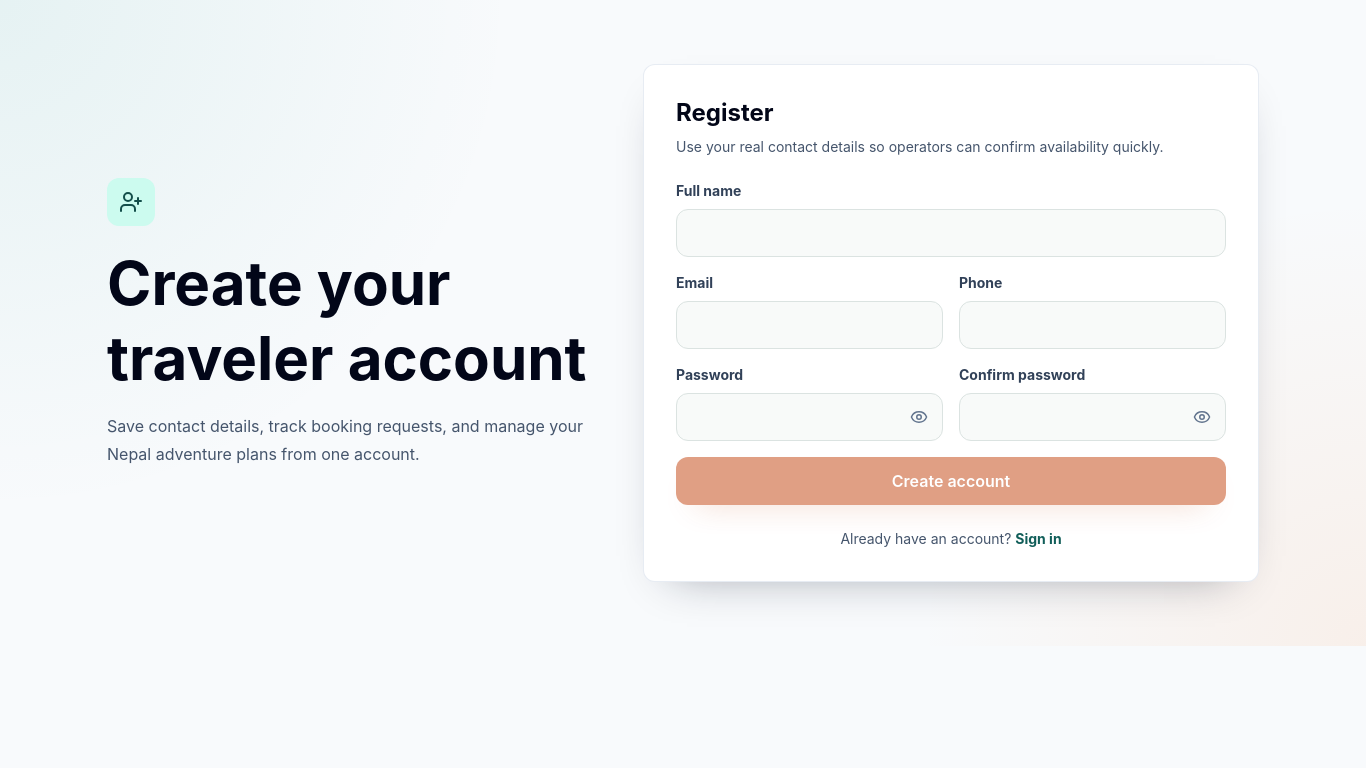
Test: authentication and protected routes › validates registration and blocks duplicate email addresses
In the field labelled "Full name": (951, 233) [676,209,1226,257], type "New Traveler"
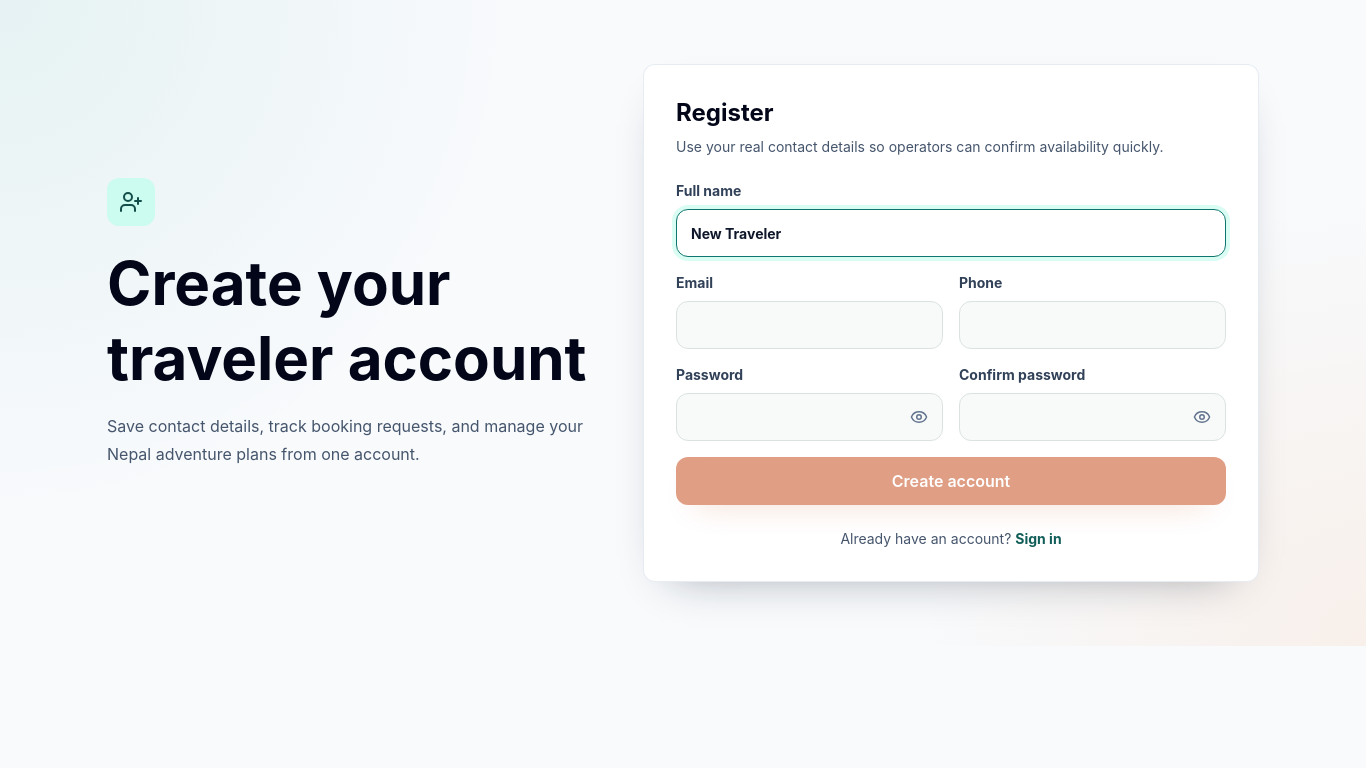
In the field labelled "Email": (810, 325) [676,301,943,349], type "user@example.com"
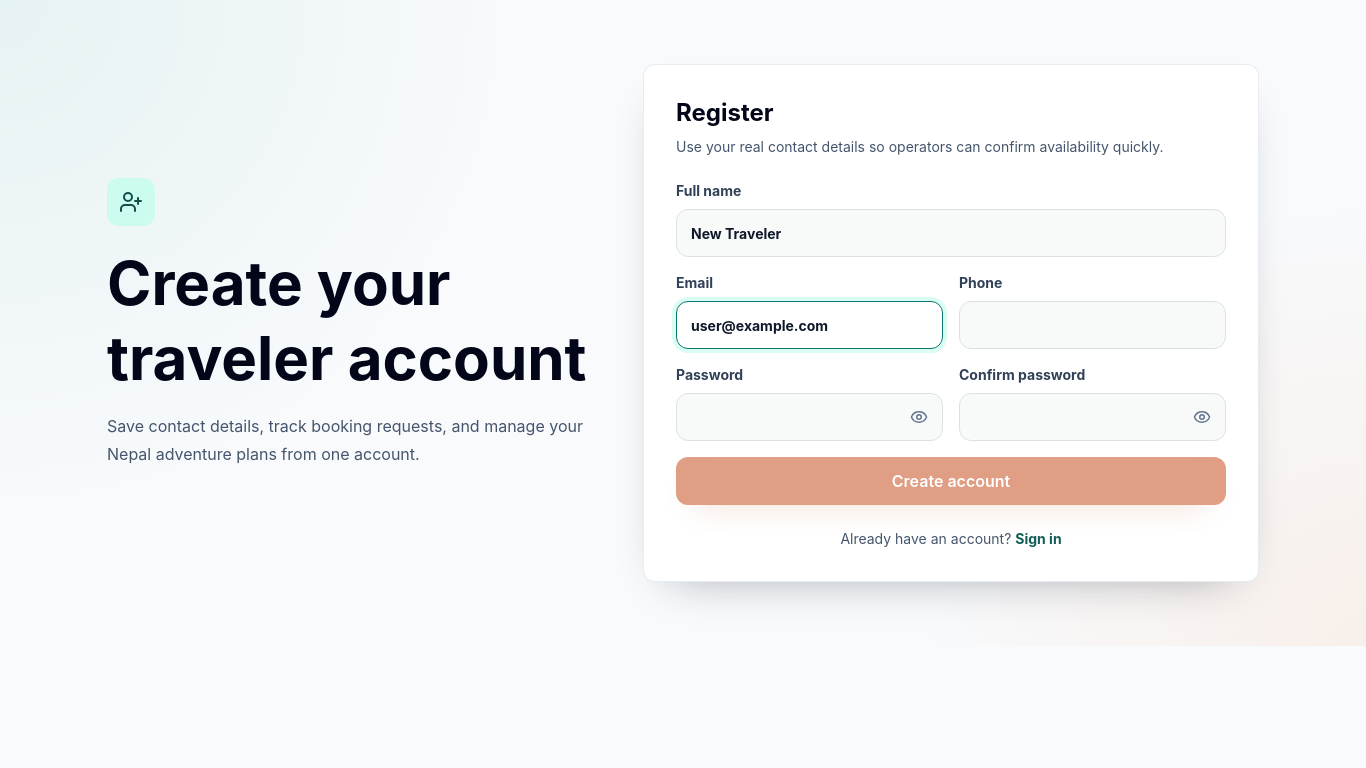
In the field labelled "Phone": (1092, 325) [959,301,1226,349], type "9800000000"
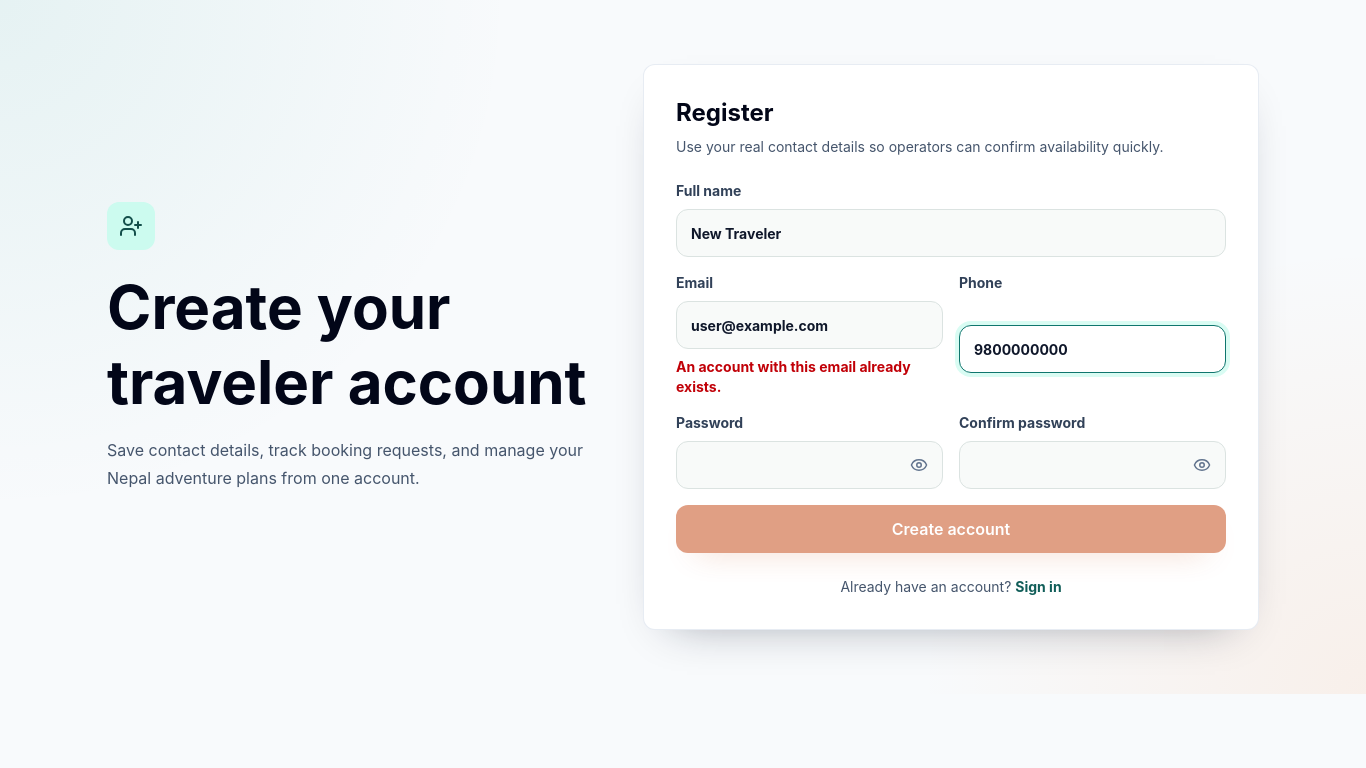
In the password field labelled "Password": (810, 465) [676,441,943,489], type "Password1"
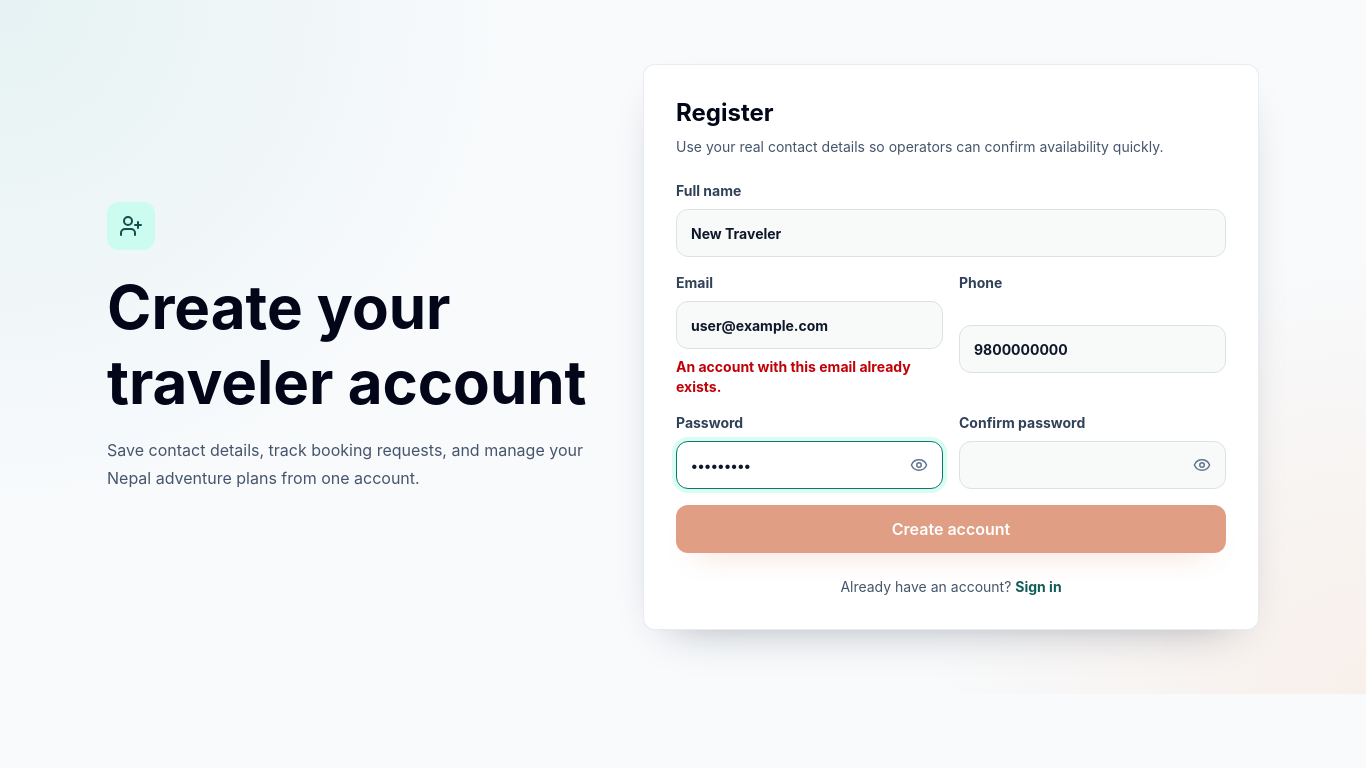
In the password field labelled "Confirm password": (1092, 465) [959,441,1226,489], type "Password2"
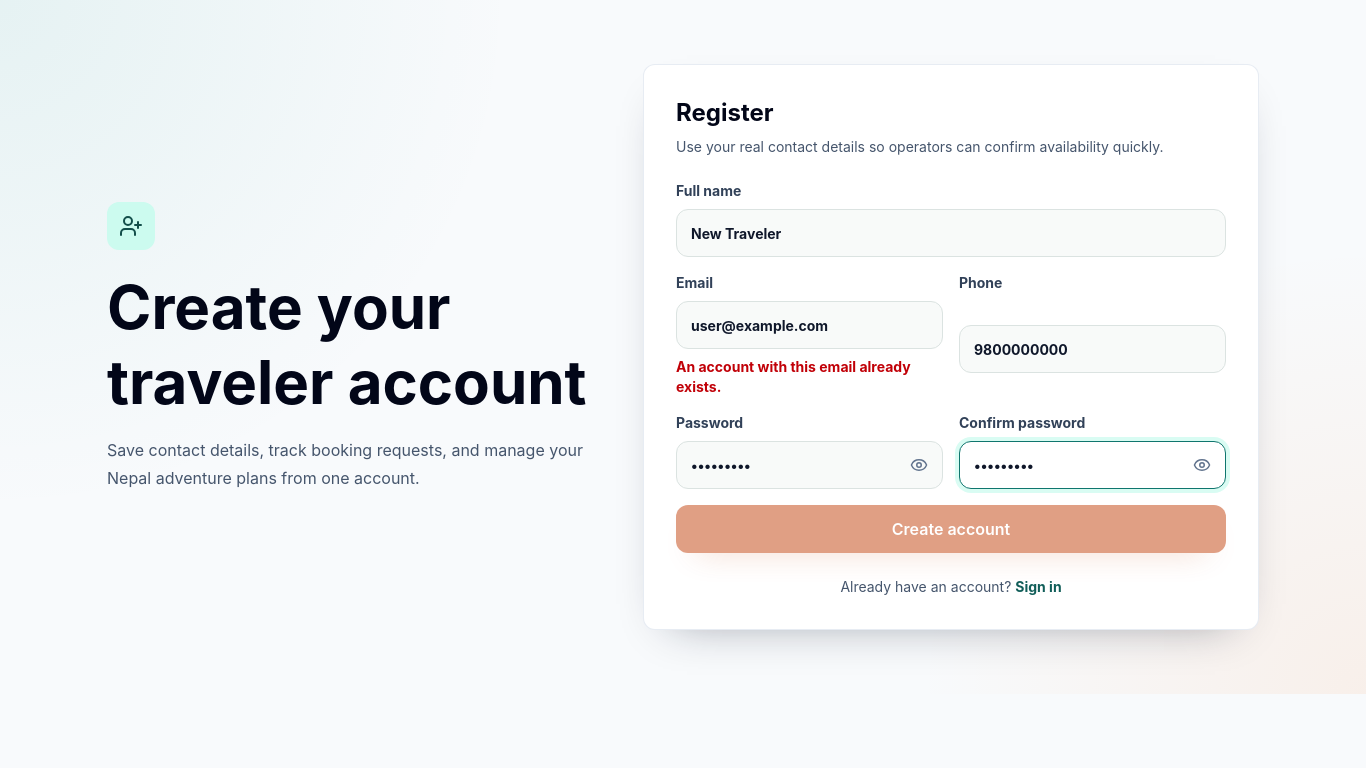
Press Tab
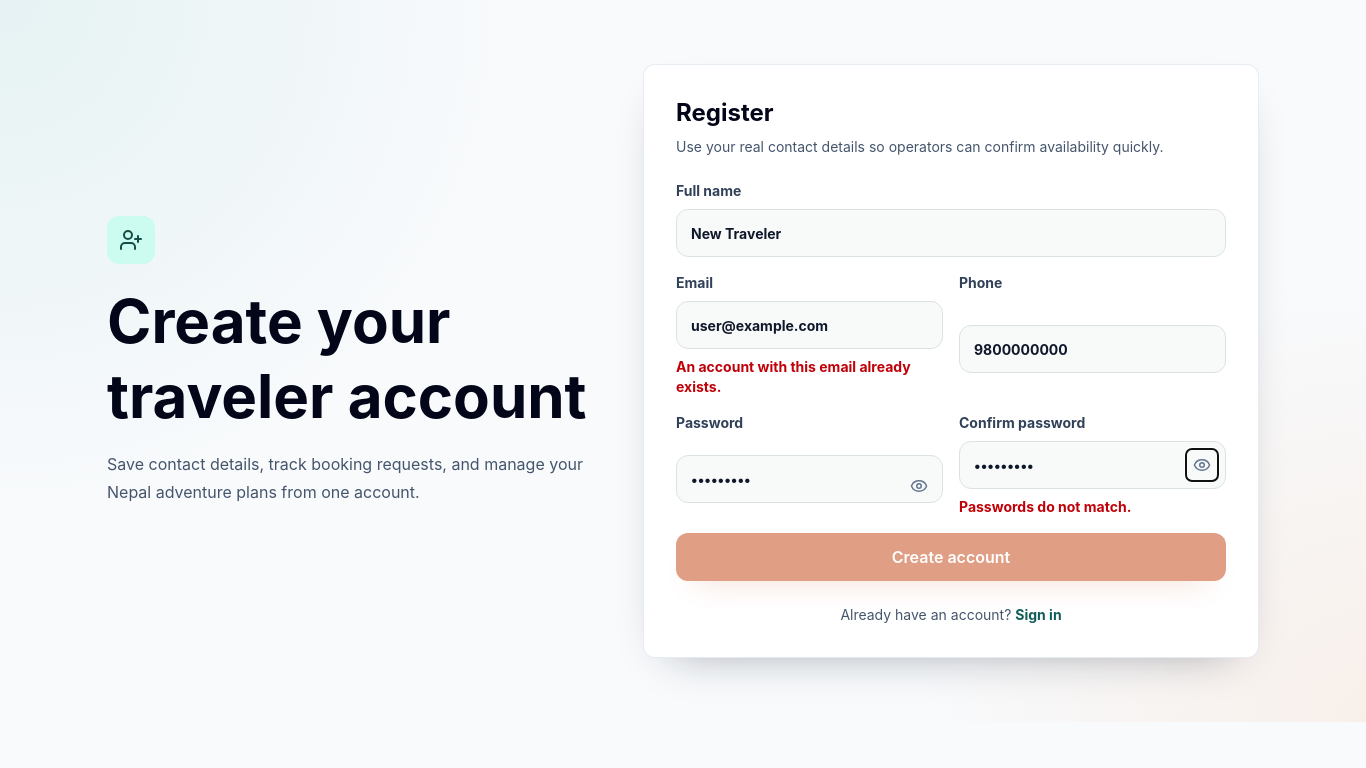
Expected: the button "Create account" is disabled, [676,533,1226,581]
Now the text "An account with this email already exists." is shown, box [676,357,943,397]
Now the text "Passwords do not match." is shown, box [959,498,1131,515]
